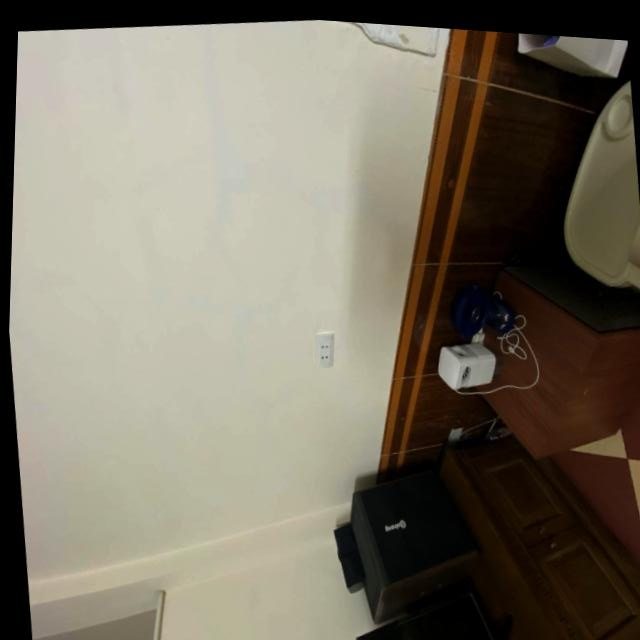outlet: (312, 332, 337, 371)
